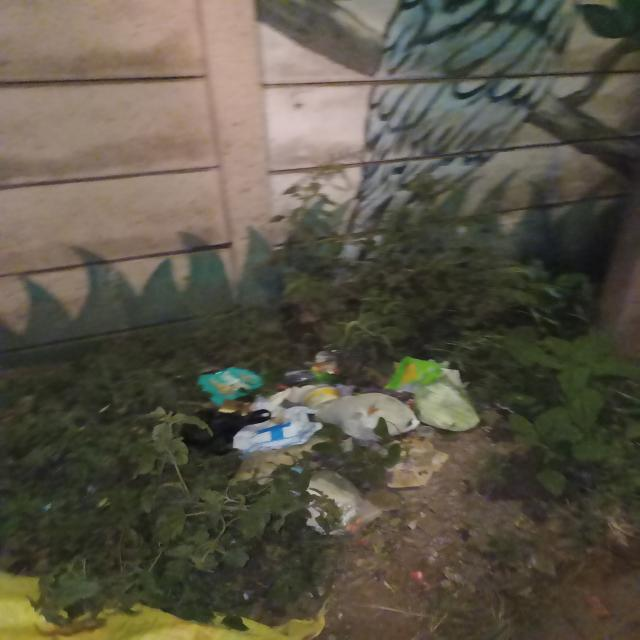garbage: (170, 344, 488, 548)
